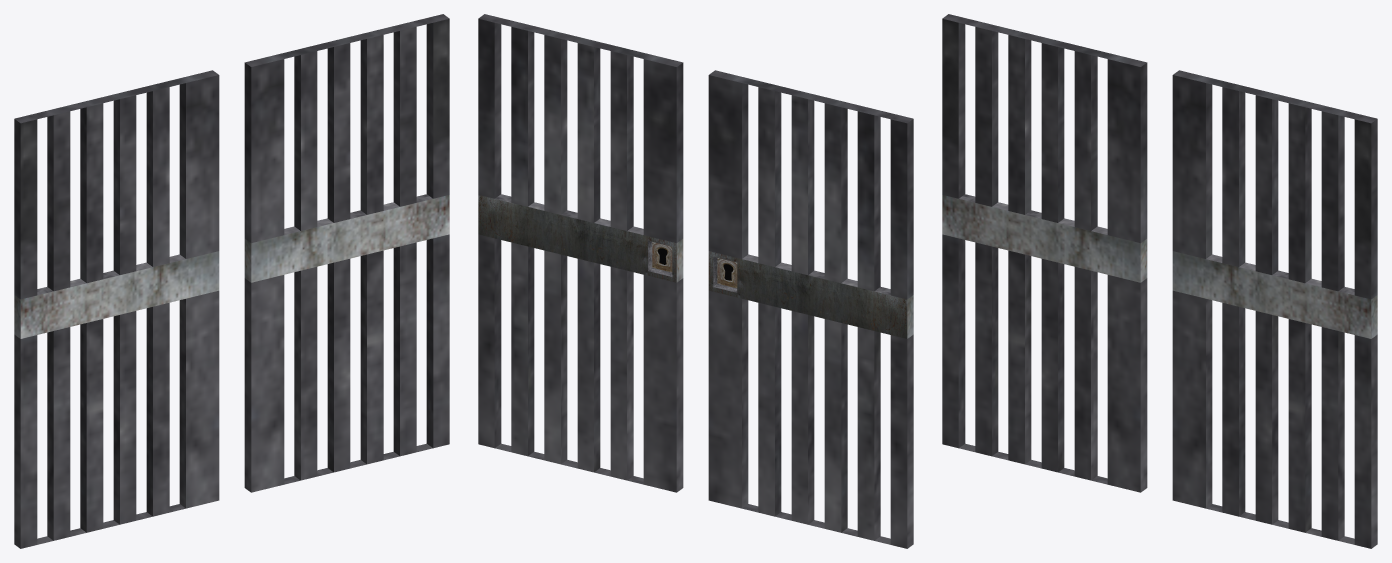
The model's file is porta_grade.fbx.
3 renders of one model, left to right at view 1: azimuth 30°, elevation 25°; view 2: azimuth 150°, elevation 25°; view 3: azimuth 330°, elevation 25°, orthographic.
Parts seen in each view (by area): view 1: porta_ferro, porta_ferro.001; view 2: porta_ferro, porta_ferro.001; view 3: porta_ferro.001, porta_ferro.
Part boxes in pixels (<box>): porta_ferro: <box>244,14,449,492</box>; porta_ferro.001: <box>14,70,219,548</box>; porta_ferro: <box>478,14,683,492</box>; porta_ferro.001: <box>708,70,913,548</box>; porta_ferro.001: <box>942,14,1147,492</box>; porta_ferro: <box>1172,70,1377,548</box>.
Size of the model in its own units: 306 by 290 by 7.94.
